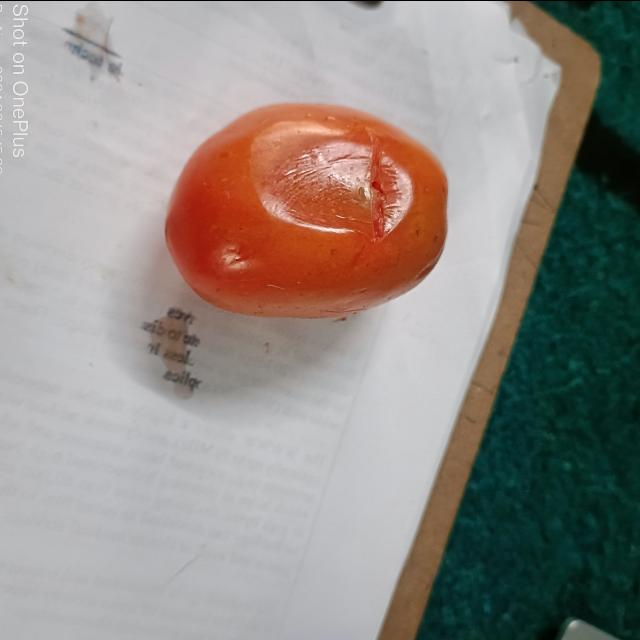Botrytis: (363, 131, 389, 241)
